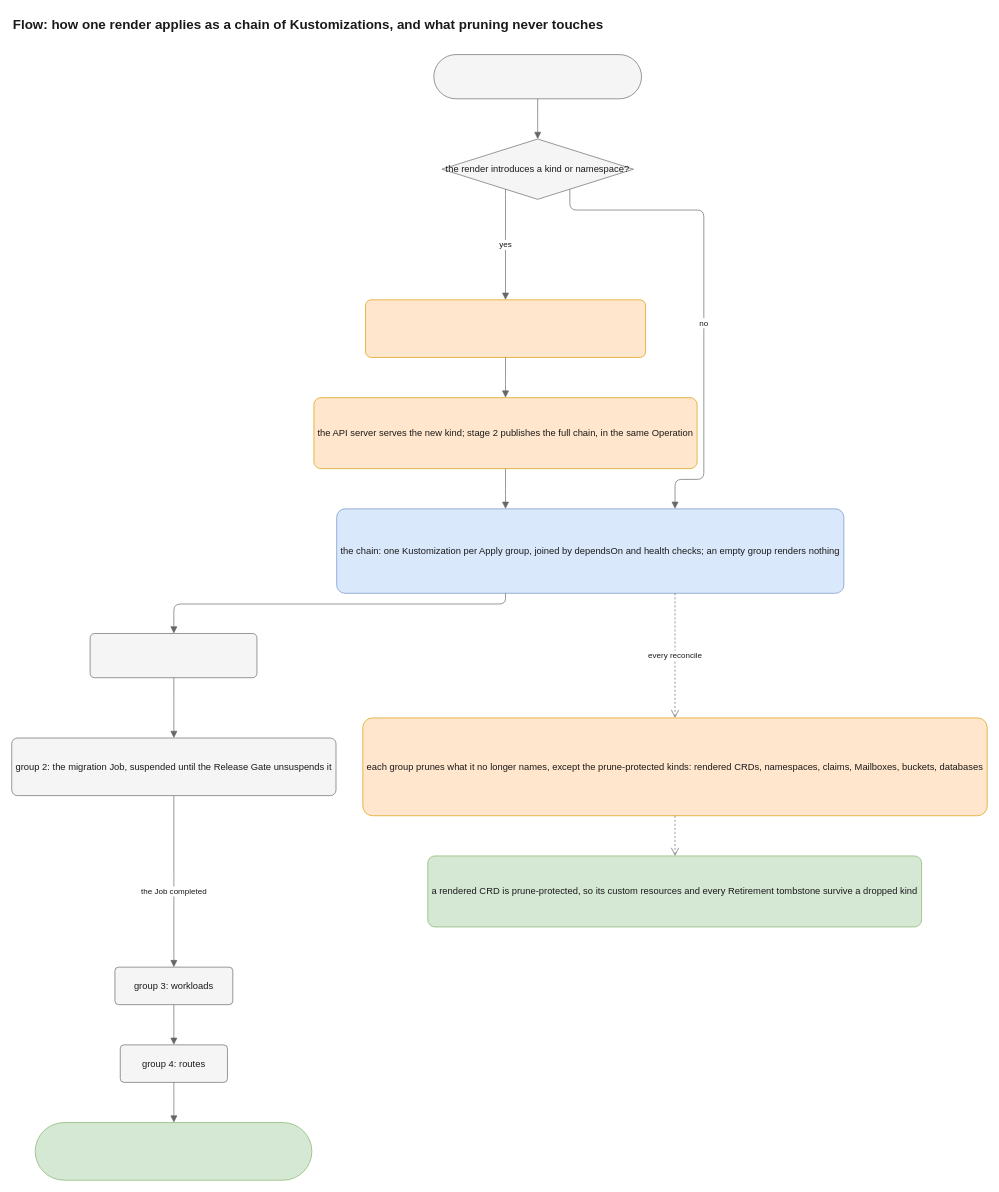
Some shapes in this 999 by 1192 pixel diagram are drawn without their labels. The shapes that lost their labels are listed below. From the top down, each one's centre as x and y in pixels, then its label:
At point 537,76: "the render is published; Flux reconciles its chain".
At point 505,328: "stage 1: the chain without the objects Unverifiable by construction".
At point 173,655: "group 1: grants and generated secrets".
At point 173,1151: "every group healthy; Flagger promotes; the Rollout ends Serving".
